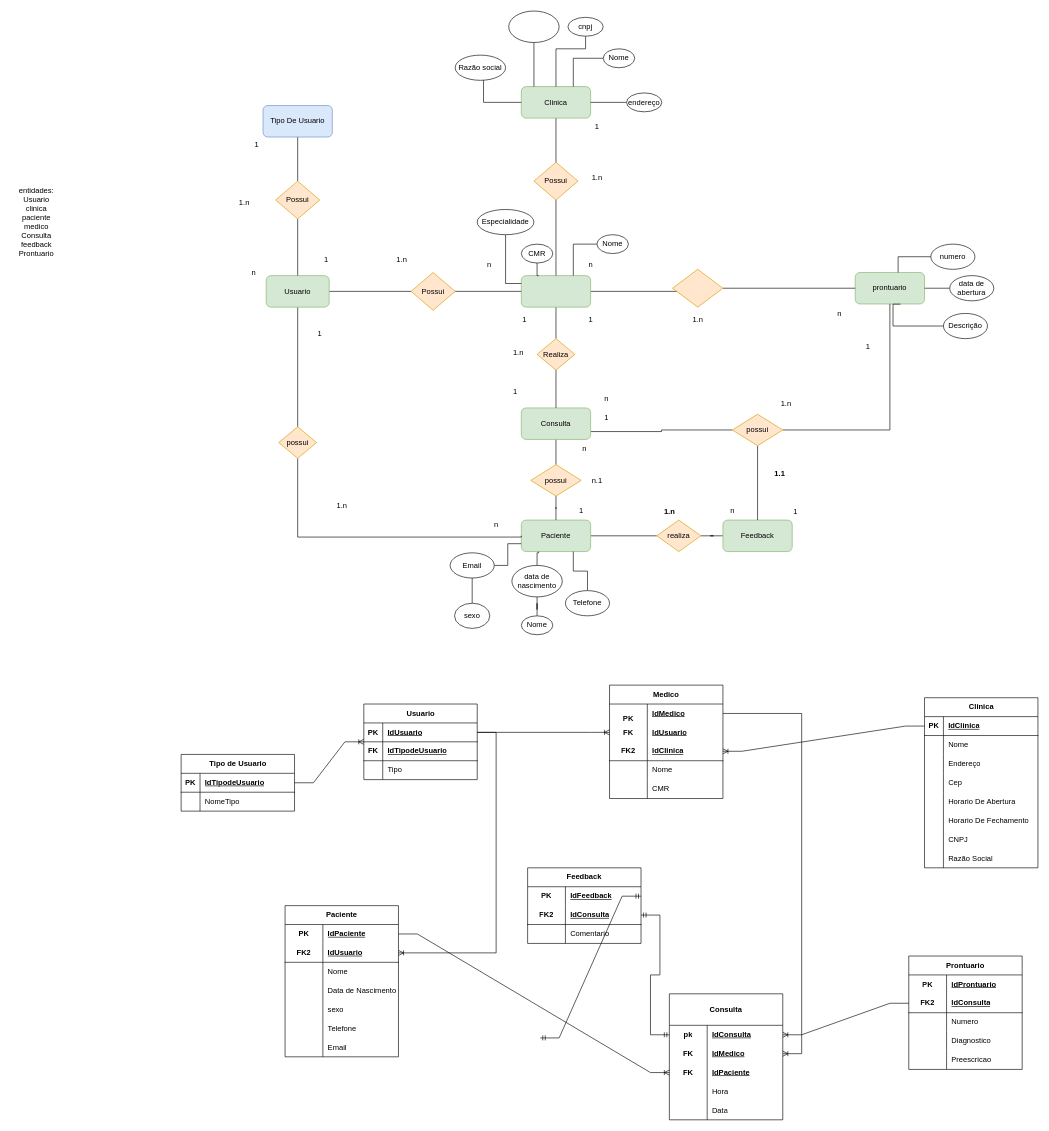
Some shapes in this 1049 by 1131 pixel diagram are drawn without their labels. Here are the shapes that lost their labels. From the top down, the box of each, then its label:
(508, 10, 559, 43): horario de atendimento
(521, 275, 591, 307): Médico
(672, 269, 723, 307): acessa
